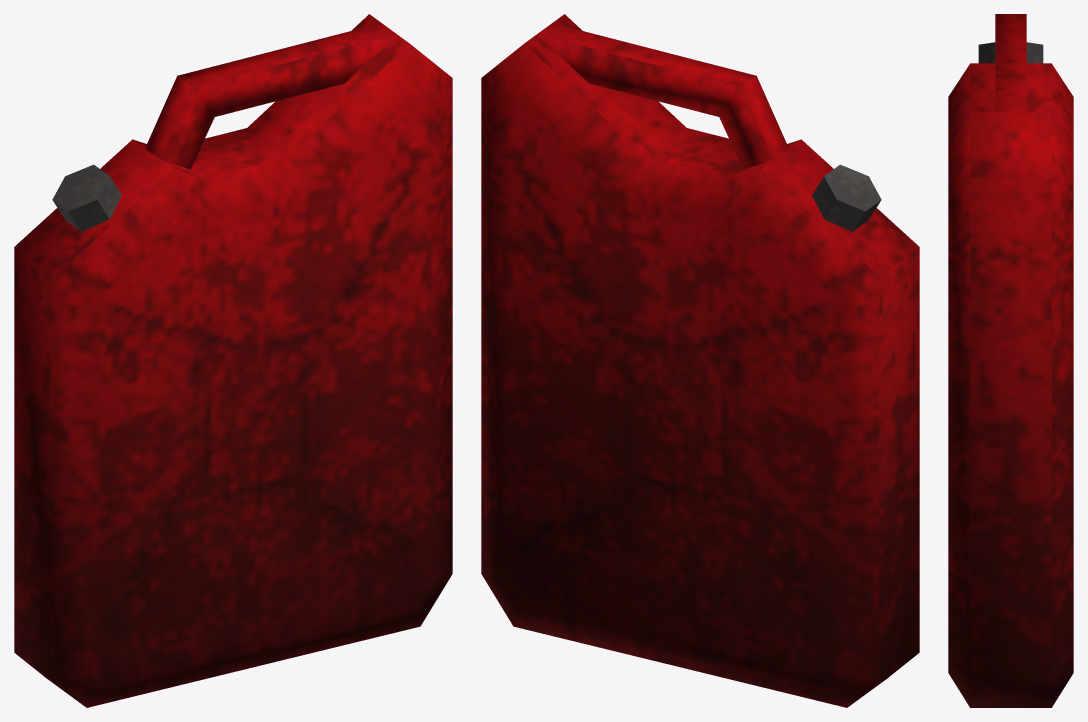
The model's file is jerrycan.glb.
3 renders of one model, left to right at view 1: azimuth 30°, elevation 25°; view 2: azimuth 150°, elevation 25°; view 3: azimuth 270°, elevation 25°, orthographic.
Parts seen in each view (by area): view 1: Jerrycan; view 2: Jerrycan; view 3: Jerrycan.
Boxes of the visible parts, left/top/right/bottom form: Jerrycan: left=14, top=14, right=452, bottom=707; Jerrycan: left=481, top=14, right=919, bottom=707; Jerrycan: left=948, top=14, right=1073, bottom=707.
Size of the model in its own units: 0.37 by 0.52 by 0.1.
Materials: 1 (1 with a texture image).
